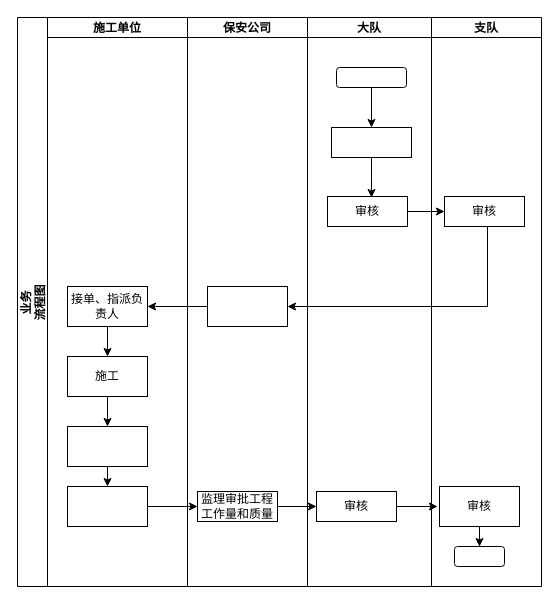
This 559x604 diagram has some shape labels left out. Here are the shapes that lost their labels. From the top down, the centre of each, then its label:
the point at 371,77: 开始
the point at 371,142: 发起报修单
the point at 247,306: 派单
the point at 107,446: 上传施工进度
the point at 107,506: 施工结束
the point at 479,556: 结束
